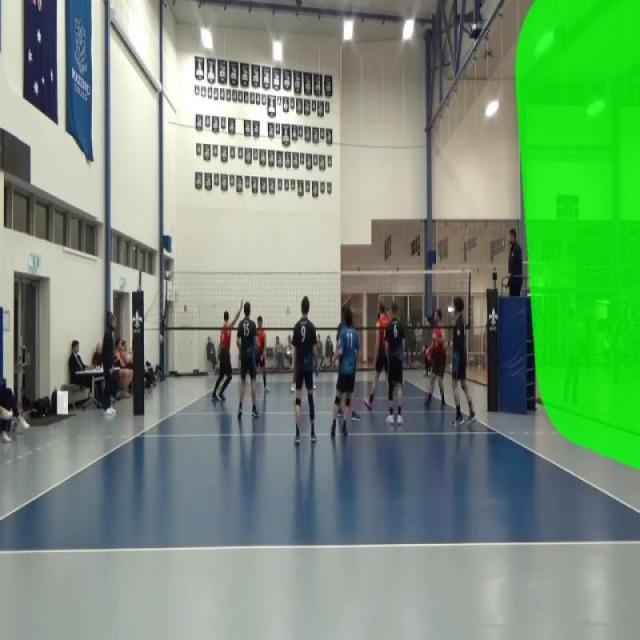volleyball: (157, 333, 165, 346)
